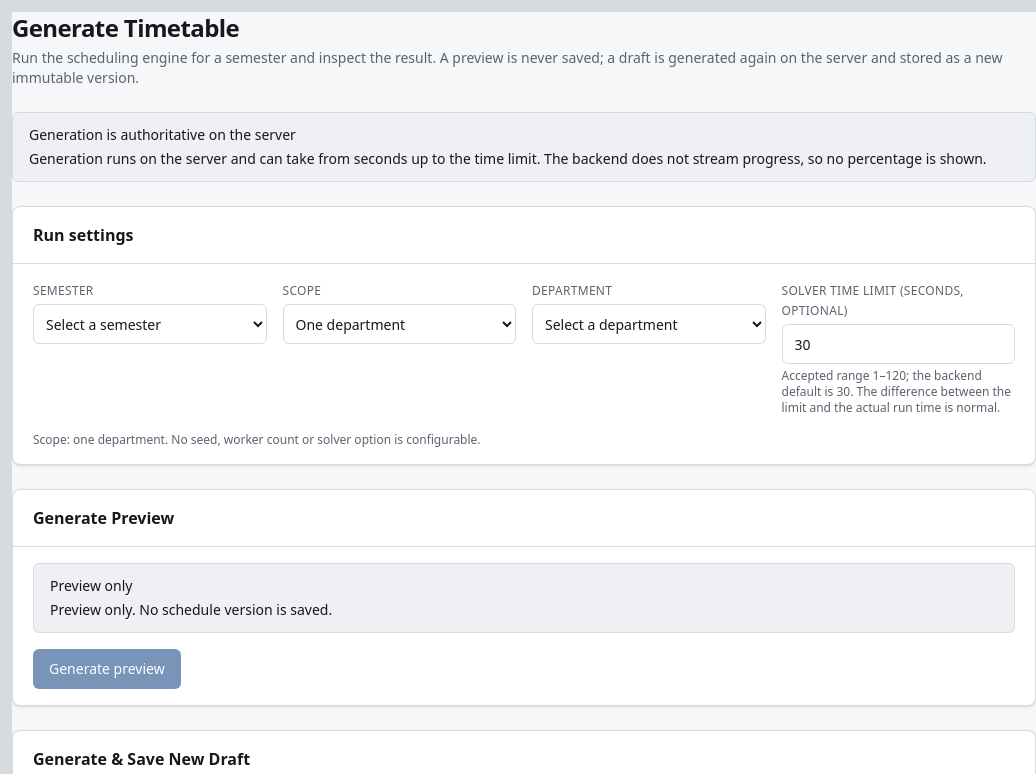
generate screen — preview › renders a solved preview and states that nothing was saved
The width and height of the screenshot is (1036, 774).
Expected: the text "Preview only. No schedule version is saved." is shown, [50,600,332,619]
Select "2026–2027 · First semester" in the dropdown labelled "Semester": {"x": 150, "y": 324} [33,304,266,344]
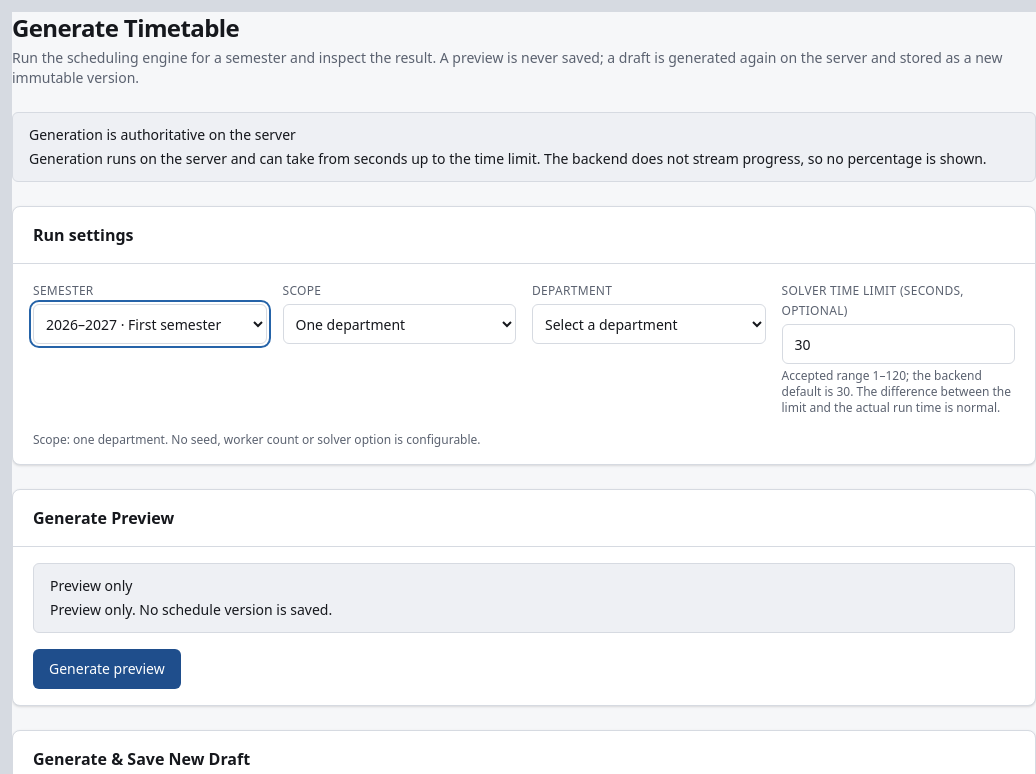
Select "BIOAI — Biomedical AI" in the dropdown labelled "Department": {"x": 649, "y": 324} [532,304,766,344]
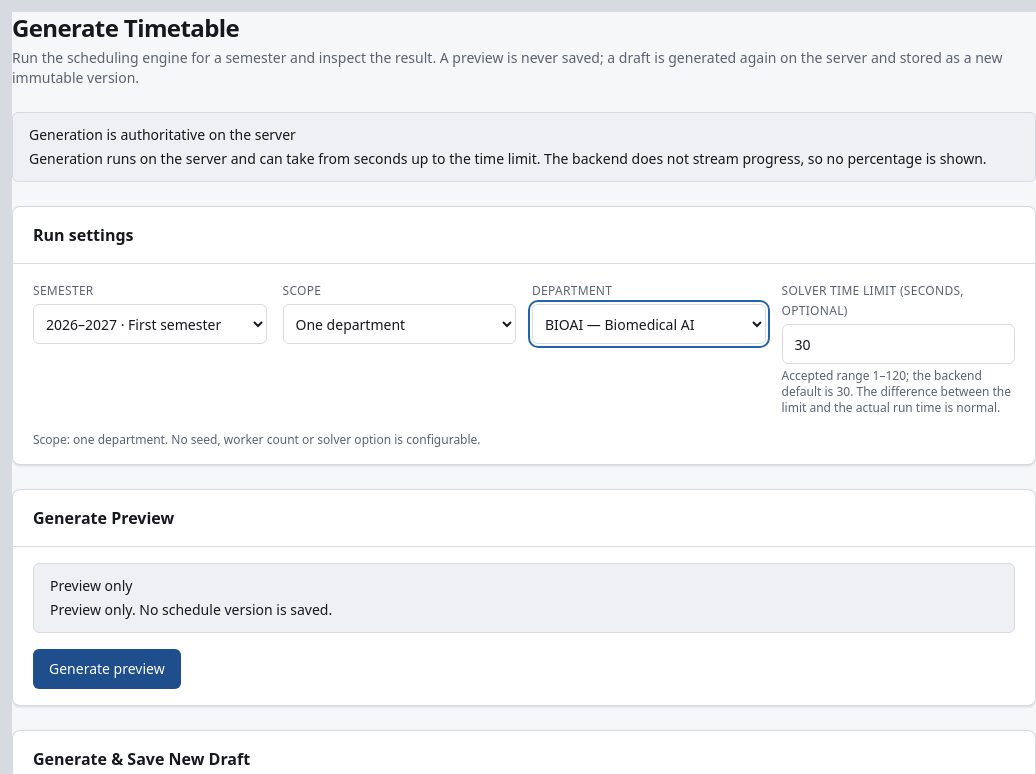
Click the button "Generate preview": {"x": 107, "y": 669} [33,649,181,689]
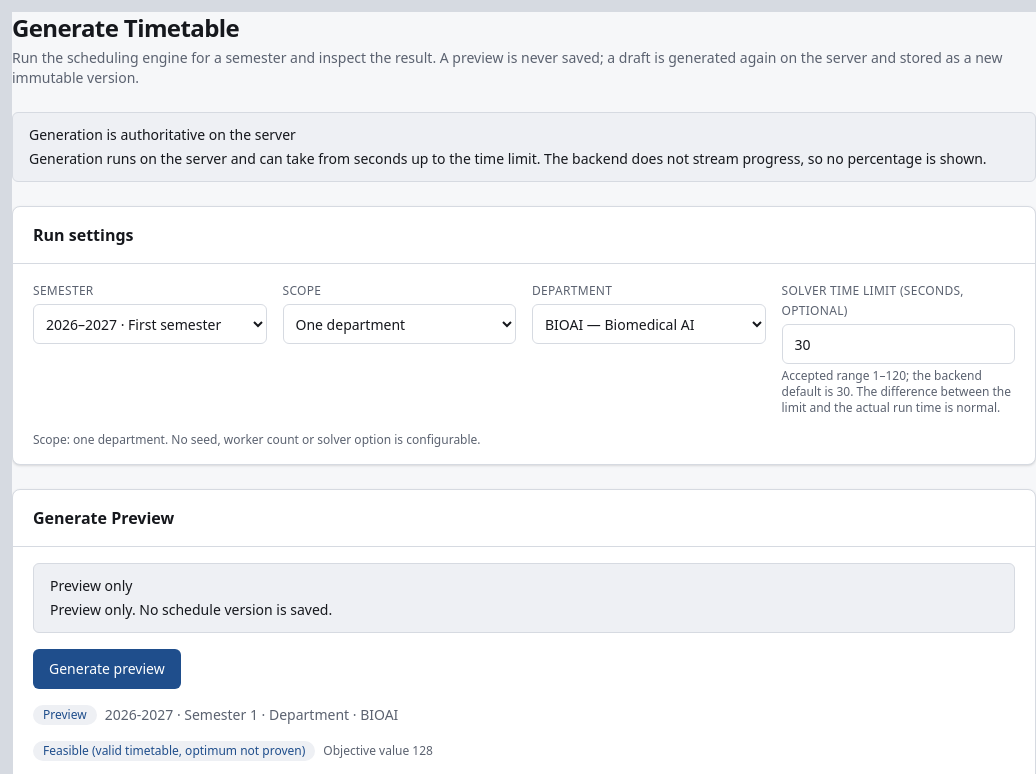
Expected: the text "Feasible (valid timetable, optimum not proven)" is shown, [33,741,315,761]
